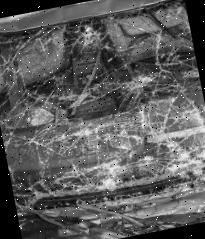glass: (0, 4, 205, 223)
